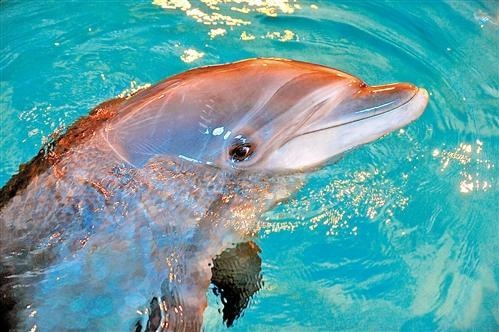fish: (2, 56, 431, 330)
